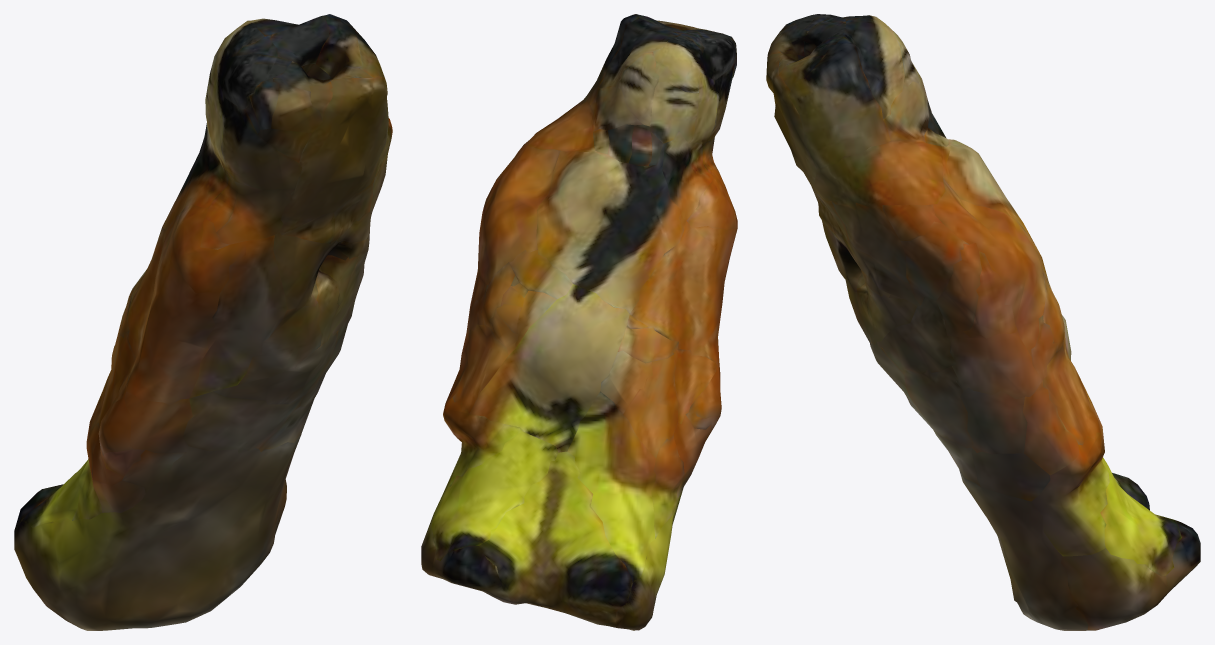
Rendered from hall.glb.
3 views of the same model, side by side, from view 1: azimuth 30°, elevation 25°; view 2: azimuth 150°, elevation 25°; view 3: azimuth 270°, elevation 25° (orthographic). The views are drawn at different scales.
Bounding box in the file's own units: 0.2948 × 0.6635 × 0.4437.
1 material, 1 textured.
